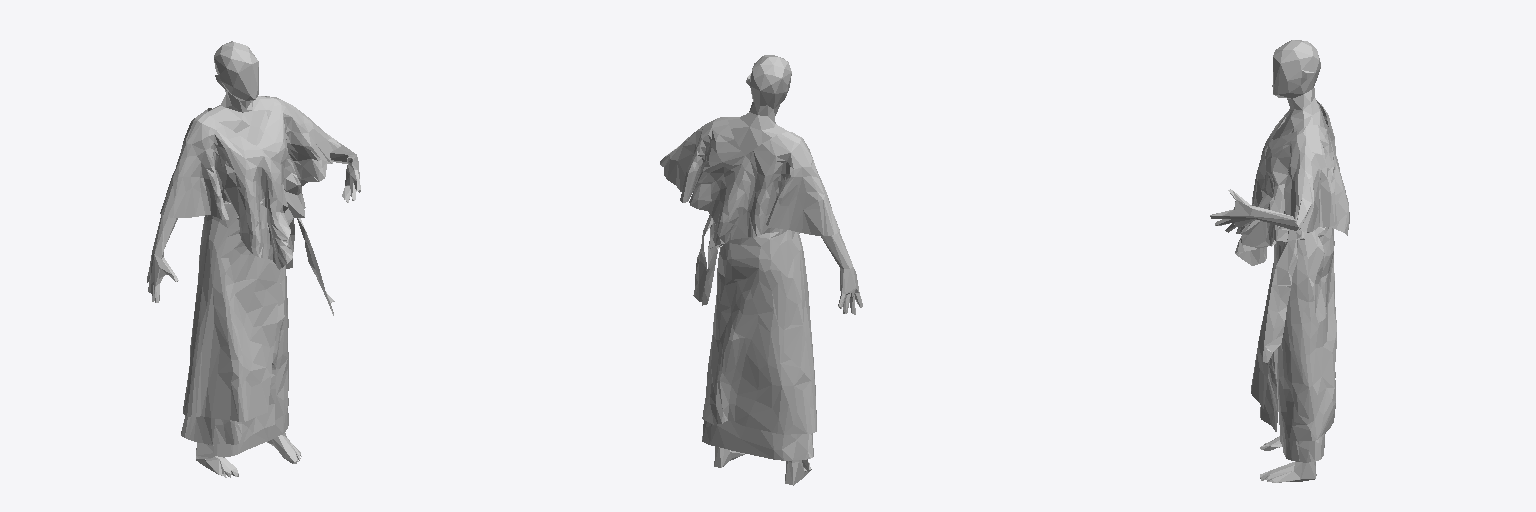
Rendered from personaB2.obj.
3 views of the same model, side by side, from view 1: azimuth 30°, elevation 25°; view 2: azimuth 150°, elevation 25°; view 3: azimuth 270°, elevation 25° (orthographic).
Parts seen in each view (by area): view 1: TrajeTipico, Maniqui; view 2: TrajeTipico, Maniqui; view 3: TrajeTipico, Maniqui.
Boxes of the visible parts, box(x1,y1,x2,y2) form: TrajeTipico: box(160, 96, 340, 458); Maniqui: box(147, 41, 360, 477); TrajeTipico: box(660, 117, 839, 471); Maniqui: box(666, 55, 862, 485); TrajeTipico: box(1235, 100, 1349, 462); Maniqui: box(1210, 40, 1327, 482).
Size of the model in its own units: 89.7 by 183 by 55.31.